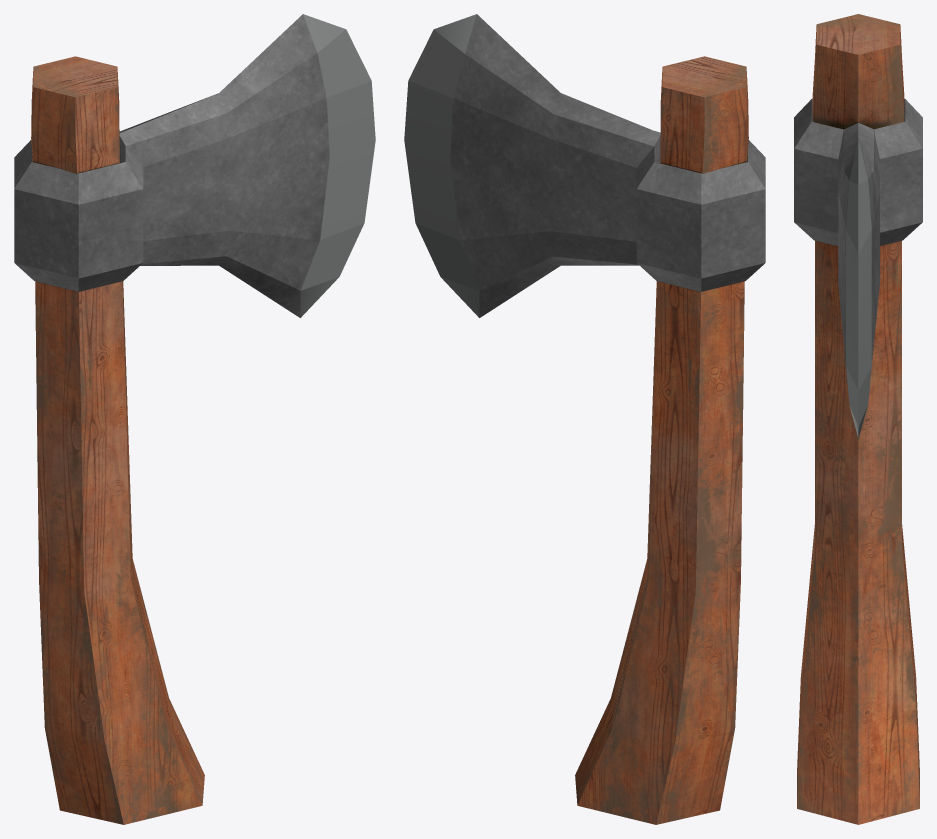
File: low_poly_axe.glb
3 views of the same model, side by side, from view 1: azimuth 30°, elevation 25°; view 2: azimuth 150°, elevation 25°; view 3: azimuth 270°, elevation 25° (orthographic).
Parts seen in each view (by area): view 1: handle_, head_; view 2: handle_, head_; view 3: handle_, head_.
Boxes of the visible parts, x1,y1,x2,y2 form: handle_: (31,56,204,824); head_: (14,14,375,317); handle_: (575,56,748,824); head_: (404,14,765,317); handle_: (797,14,919,824); head_: (794,98,922,438).
Bounding box in the file's own units: 0.243 × 0.4734 × 0.0752.
1 material, 1 textured.
